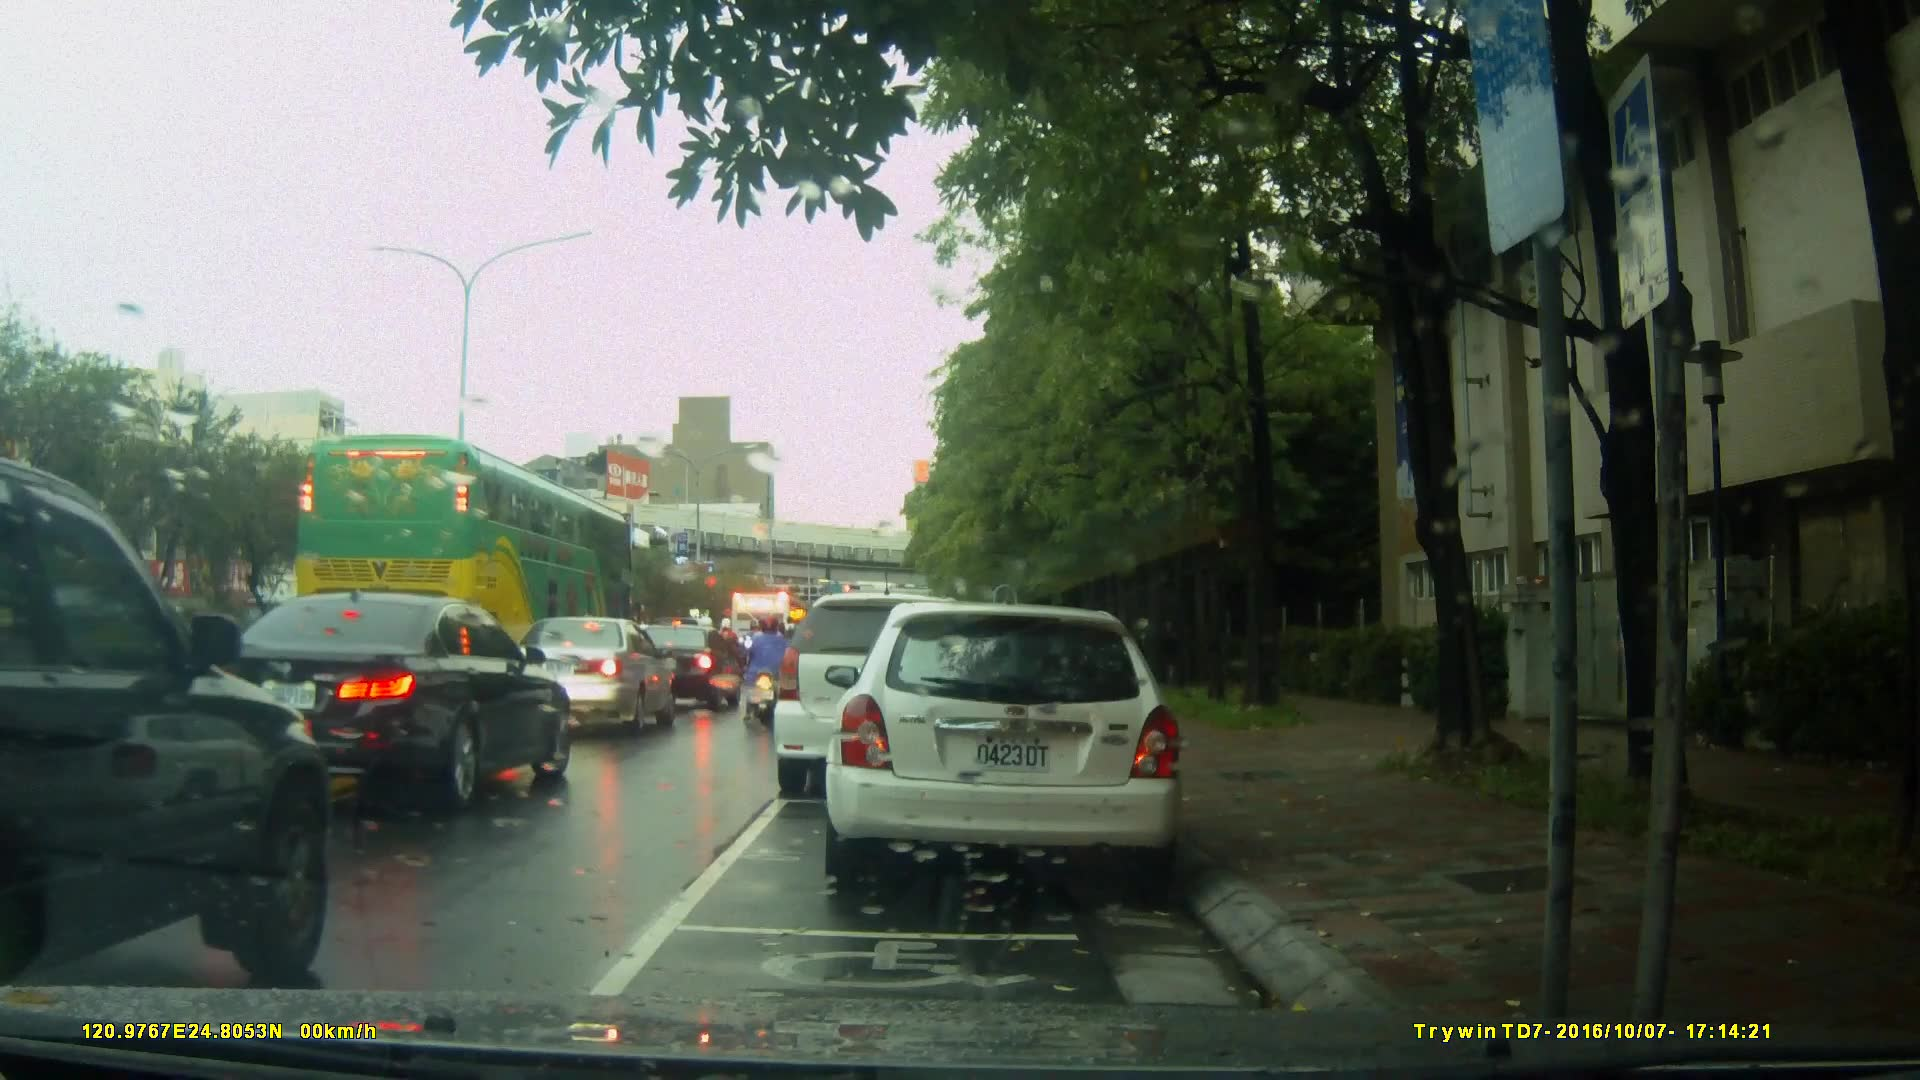rider: (739, 613, 794, 721)
vehicle: (1, 464, 333, 989), (831, 592, 1196, 897), (184, 590, 579, 816), (291, 432, 642, 658), (784, 604, 999, 802), (498, 614, 677, 740), (631, 625, 741, 715)
